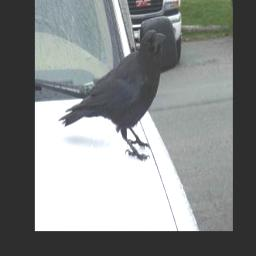Crow: (59, 28, 165, 162)
